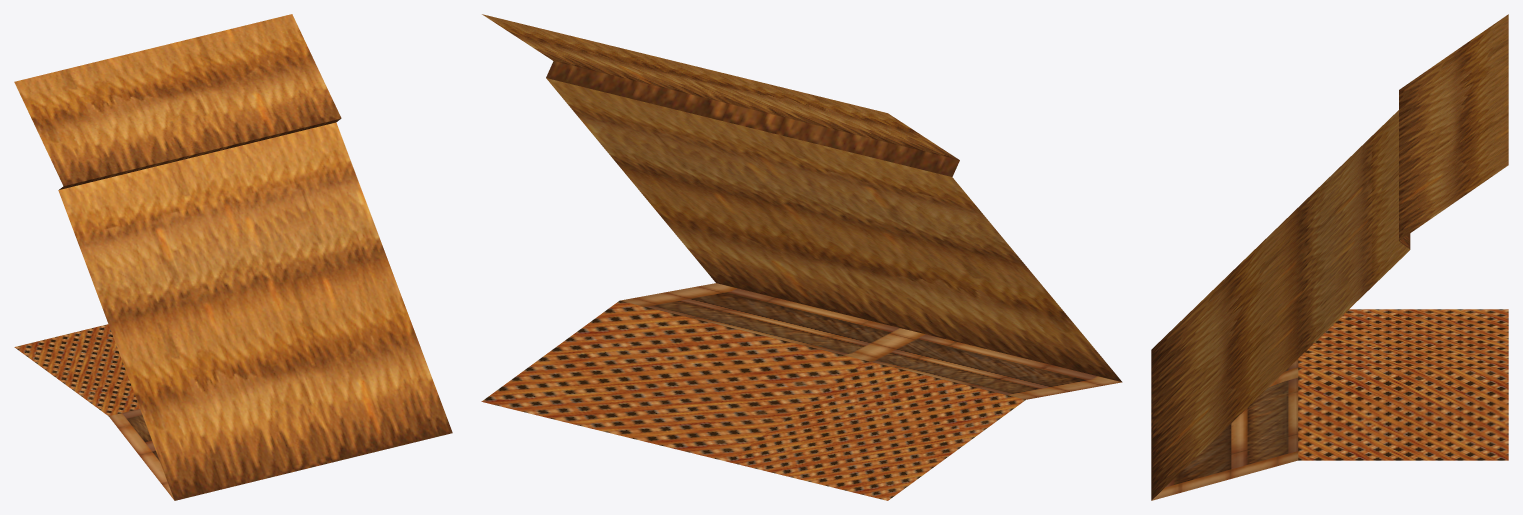
File: Kit_RoofSide_01.fbx
The picture shows the model from 3 angles, left to right: view 1: azimuth 30°, elevation 25°; view 2: azimuth 150°, elevation 25°; view 3: azimuth 270°, elevation 25°; orthographic projection. The views are drawn at different scales.
Visible parts, largest first — view 1: Kit_RoofSide_01; view 2: Kit_RoofSide_01; view 3: Kit_RoofSide_01.
Part boxes in pixels (bbox=[...]): Kit_RoofSide_01: bbox=[14, 14, 452, 500]; Kit_RoofSide_01: bbox=[481, 14, 1122, 500]; Kit_RoofSide_01: bbox=[1151, 14, 1508, 500].
Size of the model in its own units: 0.8093 by 0.8387 by 0.8093.
